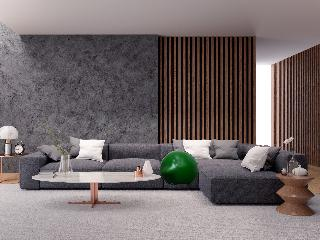lime: (158, 147, 201, 187)
